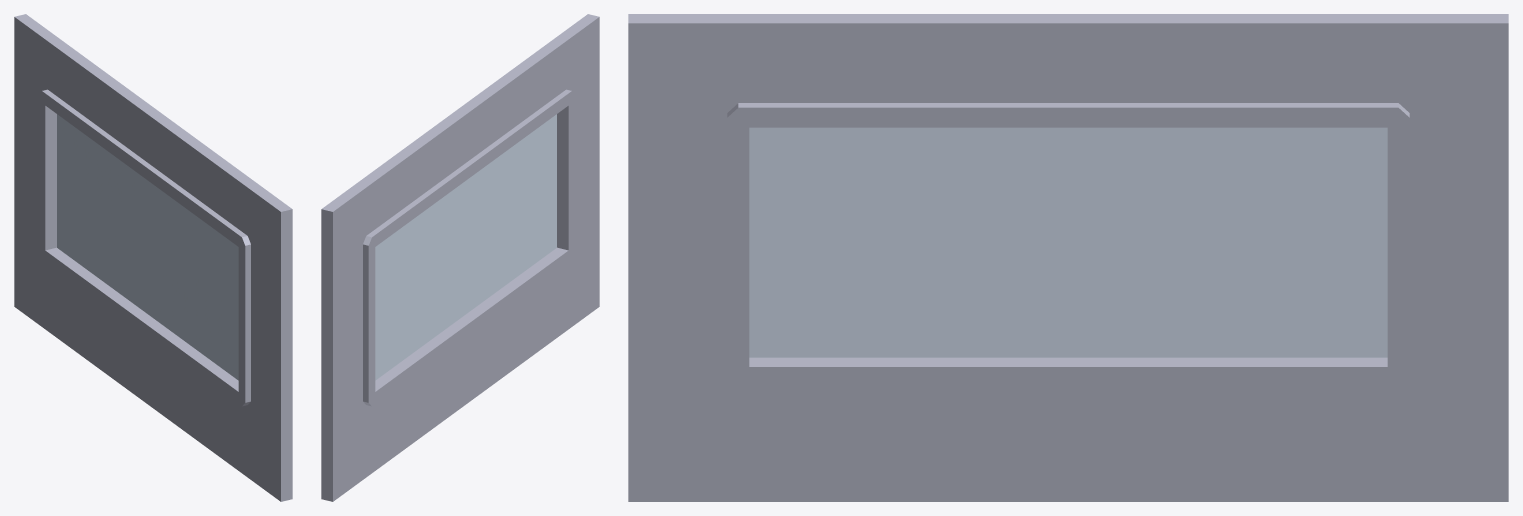
The model's file is wall-window-wide-square.obj.
3 renders of one model, left to right at view 1: azimuth 30°, elevation 25°; view 2: azimuth 150°, elevation 25°; view 3: azimuth 270°, elevation 25°, orthographic. The views are drawn at different scales.
Bounding box in the file's own units: 0.2 × 2.4 × 4.
